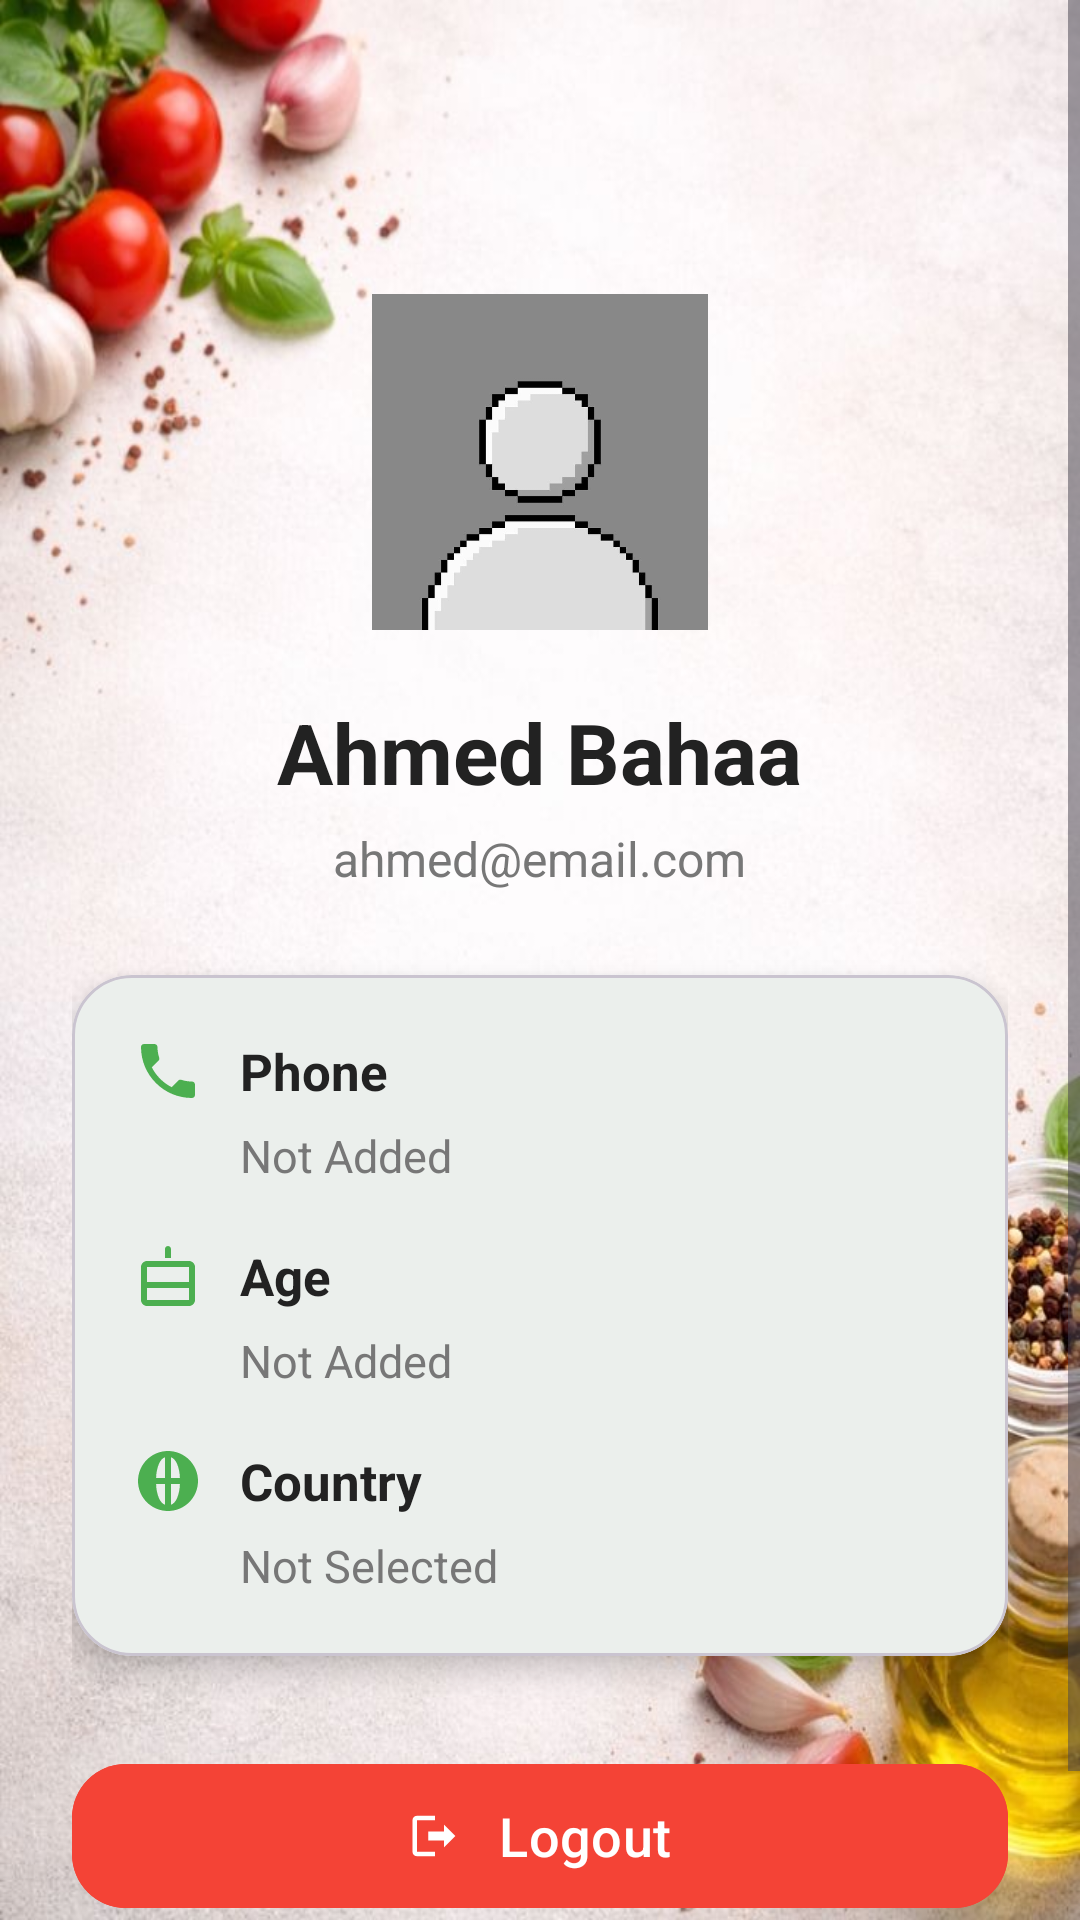

Screen size 1080 x 1920. Icon name, then its box in pixels as bbox=[x1, y1, x2, y2]:
cake: bbox=[141, 1246, 195, 1306]
profile: bbox=[360, 287, 708, 630]
public: bbox=[138, 1451, 198, 1511]
